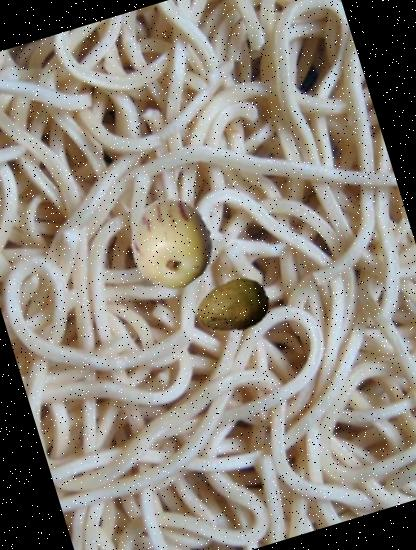Papaya: (184, 258, 280, 354)
Pepino: (116, 189, 226, 298)
